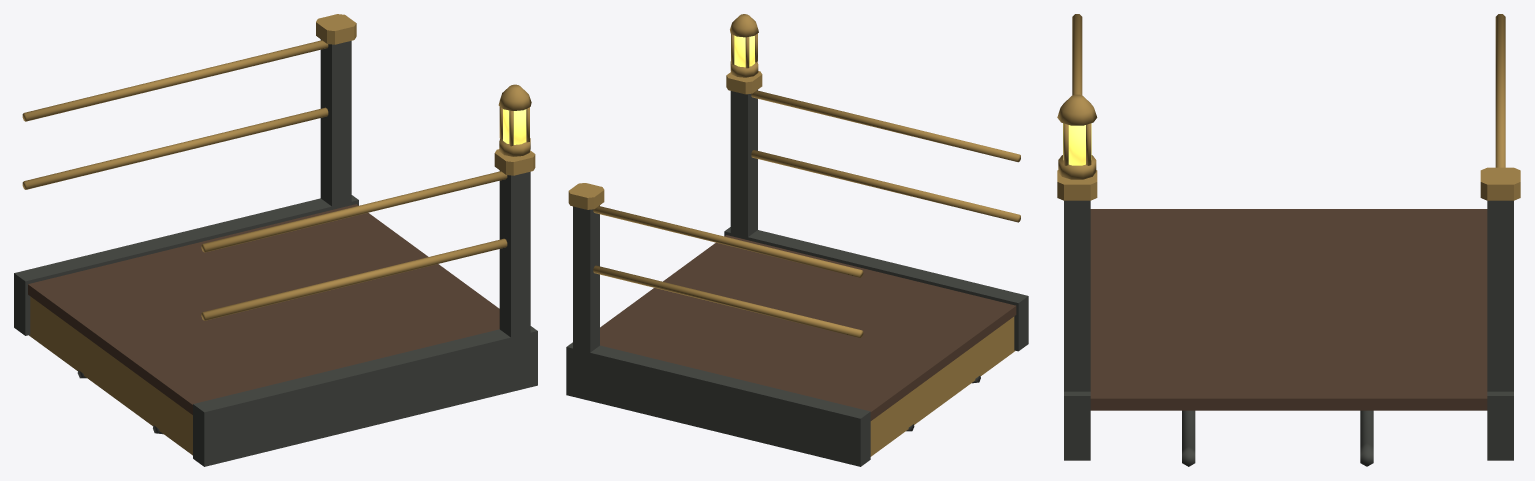
File: b1_walkway_lamp.glb
3 views of the same model, side by side, from view 1: azimuth 30°, elevation 25°; view 2: azimuth 150°, elevation 25°; view 3: azimuth 270°, elevation 25° (orthographic). The views are drawn at different scales.
Visible parts, largest first — view 1: b1_walkway_lamp; view 2: b1_walkway_lamp; view 3: b1_walkway_lamp.
Boxes of the visible parts, <box> form: b1_walkway_lamp: <box>14,14,537,466</box>; b1_walkway_lamp: <box>566,14,1028,466</box>; b1_walkway_lamp: <box>1057,14,1520,466</box>.
Bounding box in the file's own units: 2.04 × 2.01 × 2.08.
